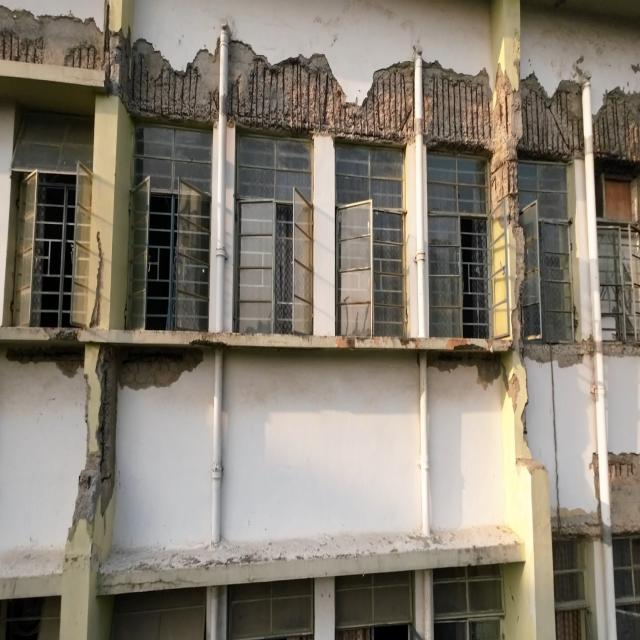spalling: (423, 62, 590, 339), (0, 0, 219, 124), (227, 40, 414, 145), (95, 345, 119, 514), (591, 88, 640, 167), (118, 348, 203, 390), (508, 377, 543, 471), (430, 354, 501, 389), (73, 459, 100, 524), (610, 453, 640, 493)
stain_mould: (440, 339, 481, 350), (336, 337, 362, 348), (417, 338, 430, 341)
